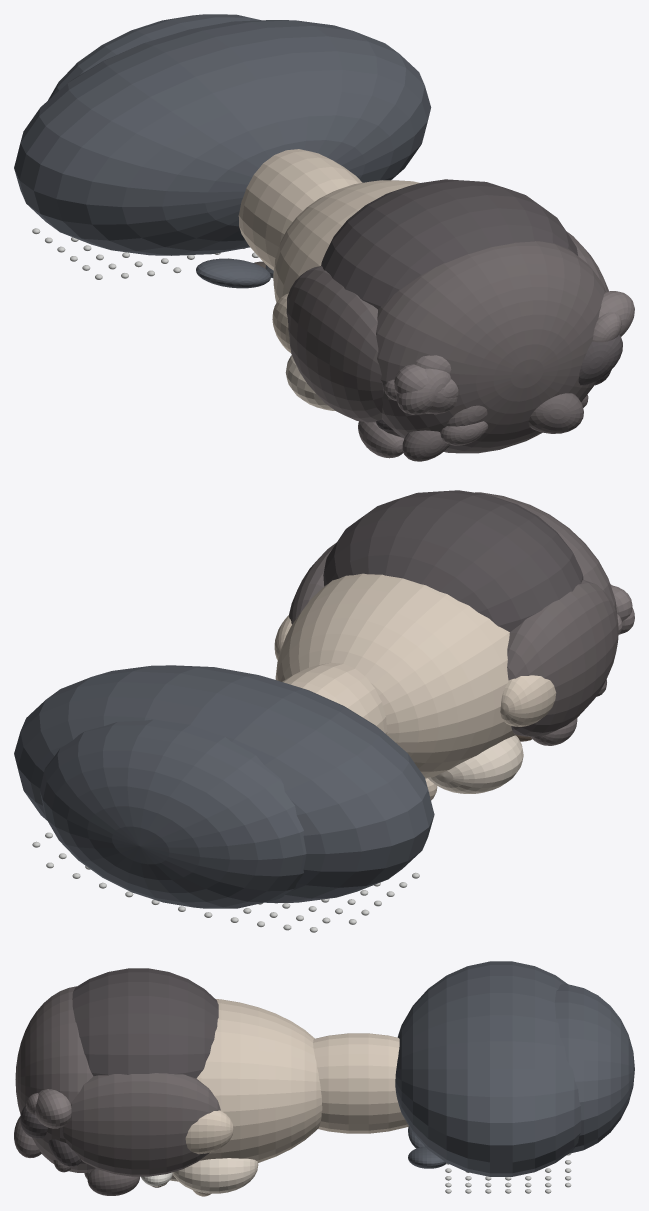
File: jane_wyman_stylized_bust.glb
The picture shows the model from 3 angles, top to bottom: view 1: azimuth 30°, elevation 25°; view 2: azimuth 150°, elevation 25°; view 3: azimuth 270°, elevation 25°; orthographic projection. The views are drawn at different scales.
Visible parts, largest first — view 1: shoulders_blouse, hair_cap, hair_back, hair_left_side, neck, head_face, upper_torso, collar_left, top_curl_28, top_curl_32, top_curl_36, top_curl_12 (+7 smaller); view 2: shoulders_blouse, upper_torso, head_face, hair_back, hair_left_side, neck, left_cheek, left_ear, hair_cap, hair_right_side; view 3: shoulders_blouse, head_face, hair_back, hair_right_side, upper_torso, neck, hair_cap, right_cheek, right_ear, top_curl_30, fringe_lock_7, top_curl_28 (+3 smaller).
Part boxes in pixels (<box>): shoulders_blouse: <box>14,20,431,255</box>; hair_cap: <box>376,241,605,453</box>; hair_back: <box>321,179,577,309</box>; hair_left_side: <box>286,266,383,422</box>; neck: <box>238,149,362,270</box>; head_face: <box>273,180,419,302</box>; upper_torso: <box>48,14,260,100</box>; collar_left: <box>196,258,270,288</box>; top_curl_28: <box>528,393,583,433</box>; top_curl_32: <box>578,334,622,385</box>; top_curl_36: <box>396,368,450,414</box>; top_curl_12: <box>394,364,457,414</box>; shoulders_blouse: <box>14,665,434,903</box>; upper_torso: <box>40,719,306,908</box>; head_face: <box>275,573,516,778</box>; hair_back: <box>323,490,583,631</box>; hair_left_side: <box>507,580,618,736</box>; neck: <box>282,662,387,734</box>; left_cheek: <box>428,735,523,793</box>; left_ear: <box>500,675,556,726</box>; hair_cap: <box>475,492,617,619</box>; hair_right_side: <box>289,542,336,624</box>; shoulders_blouse: <box>395,961,581,1176</box>; head_face: <box>196,999,322,1162</box>; hair_back: <box>72,968,218,1078</box>; hair_right_side: <box>62,1073,220,1176</box>; upper_torso: <box>554,984,634,1153</box>; neck: <box>313,1033,408,1133</box>; hair_cap: <box>15,986,95,1172</box>; right_cheek: <box>172,1158,258,1193</box>; right_ear: <box>185,1110,233,1154</box>; top_curl_30: <box>35,1089,71,1128</box>; fringe_lock_7: <box>87,1168,139,1195</box>; top_curl_28: <box>14,1116,41,1157</box>.
Size of the model in its own units: 2.05 by 1.33 by 3.53.
